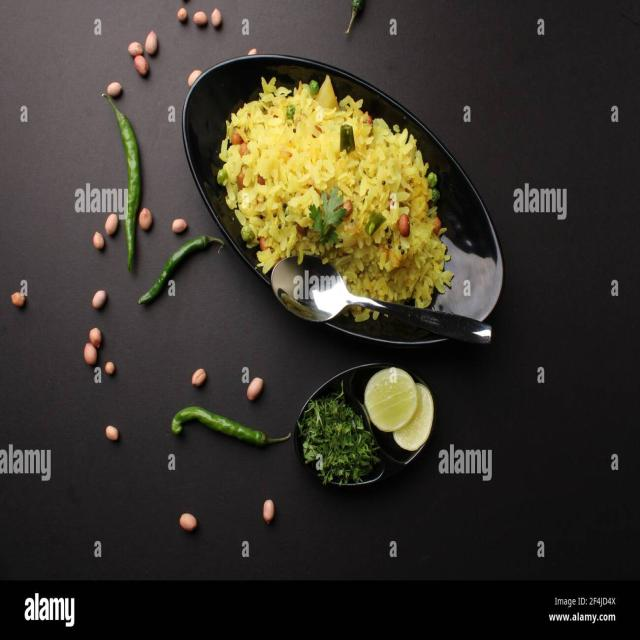UPMA: (218, 80, 451, 305)
